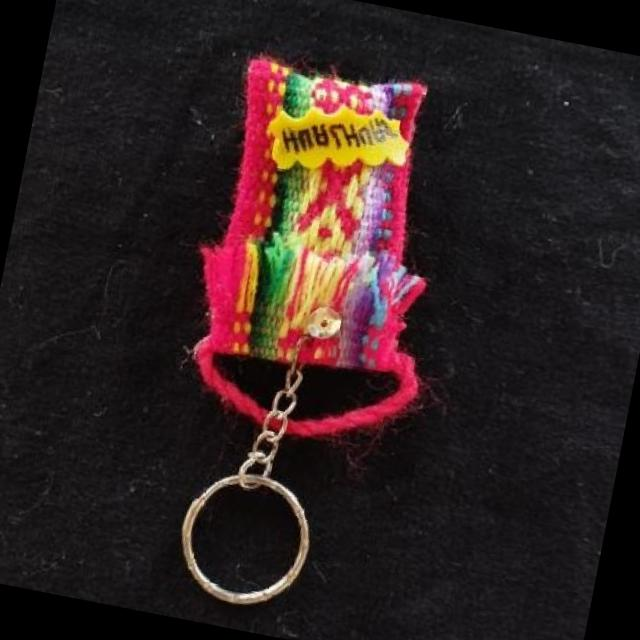Llavero: (166, 46, 478, 460)
